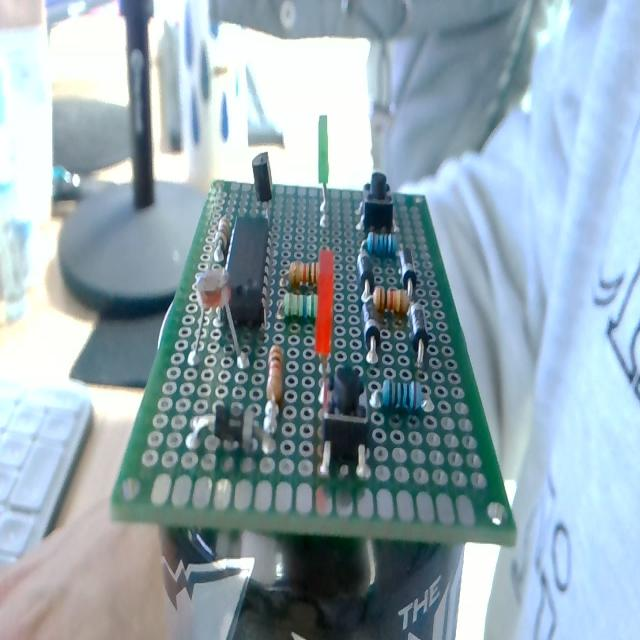IC: (223, 212, 276, 336)
cds: (192, 266, 243, 370)
diode: (190, 399, 276, 459), (362, 297, 382, 355), (408, 304, 428, 358), (398, 248, 416, 292), (357, 252, 374, 297)
led: (314, 250, 334, 438), (318, 117, 329, 220)
resistor: (369, 377, 427, 415), (373, 286, 409, 316), (266, 344, 283, 404), (283, 292, 318, 320), (213, 214, 232, 260), (288, 261, 318, 288), (367, 232, 397, 258)
switch: (319, 363, 369, 477), (360, 172, 393, 234)
transistor: (252, 151, 273, 206)
